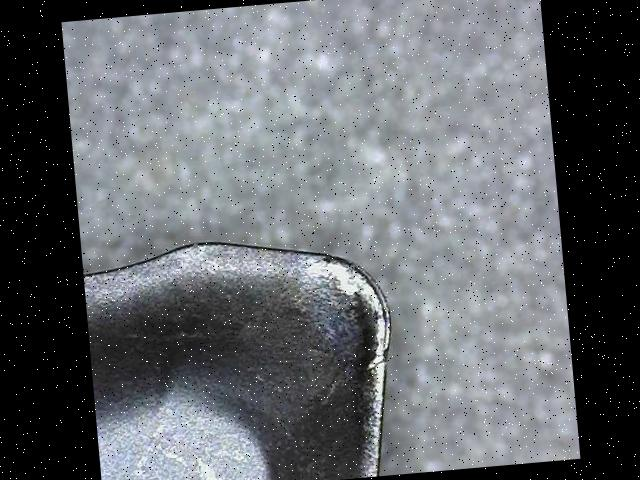normal: (87, 245, 318, 301), (355, 363, 380, 478)
wear: (316, 256, 389, 366)
